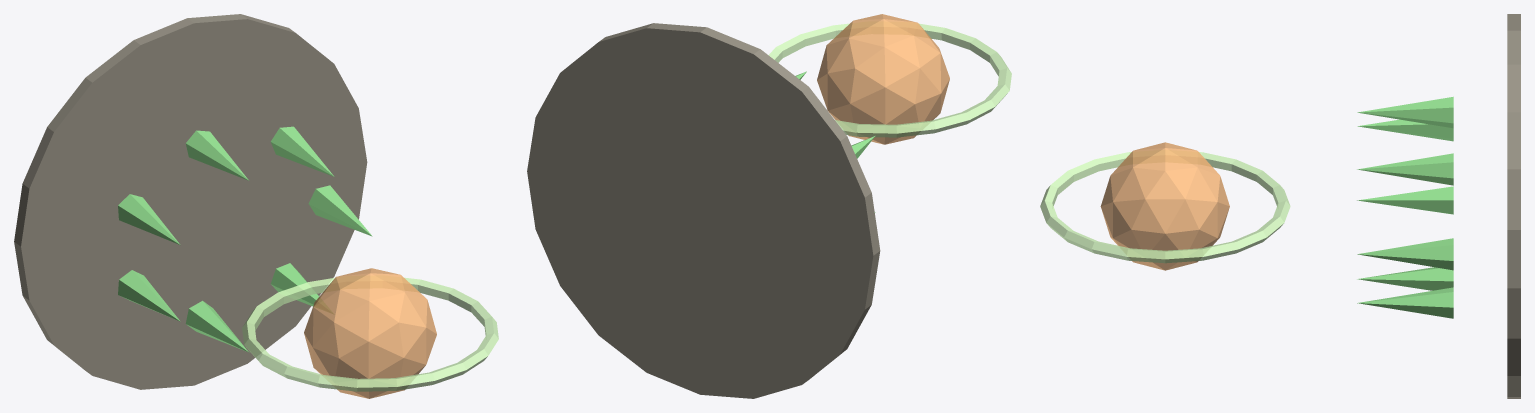
The model's file is 06_weather_terrain_nature_module.glb.
3 renders of one model, left to right at view 1: azimuth 30°, elevation 25°; view 2: azimuth 150°, elevation 25°; view 3: azimuth 270°, elevation 25°, orthographic. The views are drawn at different scales.
Visible parts, largest first — view 1: terrain_patch, sun_color_preview, weather_halo, nature_or_weather_element_2, nature_or_weather_element_1, nature_or_weather_element_0, nature_or_weather_element_3, nature_or_weather_element_5, nature_or_weather_element_4, nature_or_weather_element_6; view 2: terrain_patch, sun_color_preview, weather_halo; view 3: sun_color_preview, weather_halo, terrain_patch, nature_or_weather_element_0, nature_or_weather_element_1, nature_or_weather_element_2, nature_or_weather_element_6, nature_or_weather_element_4, nature_or_weather_element_5, nature_or_weather_element_3.
Boxes of the visible parts, <box> form: terrain_patch: <box>14,14,367,389</box>; sun_color_preview: <box>304,268,436,398</box>; weather_halo: <box>242,277,498,391</box>; nature_or_weather_element_2: <box>185,130,248,180</box>; nature_or_weather_element_1: <box>271,126,334,176</box>; nature_or_weather_element_0: <box>308,185,372,236</box>; nature_or_weather_element_3: <box>118,194,180,244</box>; nature_or_weather_element_5: <box>185,300,248,352</box>; nature_or_weather_element_4: <box>118,270,180,321</box>; nature_or_weather_element_6: <box>271,263,319,306</box>; terrain_patch: <box>527,23,880,398</box>; sun_color_preview: <box>817,14,949,144</box>; weather_halo: <box>768,23,1011,137</box>; sun_color_preview: <box>1100,142,1229,270</box>; weather_halo: <box>1040,152,1290,263</box>; terrain_patch: <box>1507,14,1520,398</box>; nature_or_weather_element_0: <box>1357,238,1453,270</box>; nature_or_weather_element_1: <box>1357,153,1453,185</box>; nature_or_weather_element_2: <box>1357,96,1453,128</box>; nature_or_weather_element_6: <box>1357,287,1453,318</box>; nature_or_weather_element_4: <box>1357,186,1453,214</box>; nature_or_weather_element_5: <box>1357,267,1453,290</box>; nature_or_weather_element_3: <box>1357,119,1453,141</box>.
Bounding box in the file's own units: 1.44 × 1.44 × 1.78.
